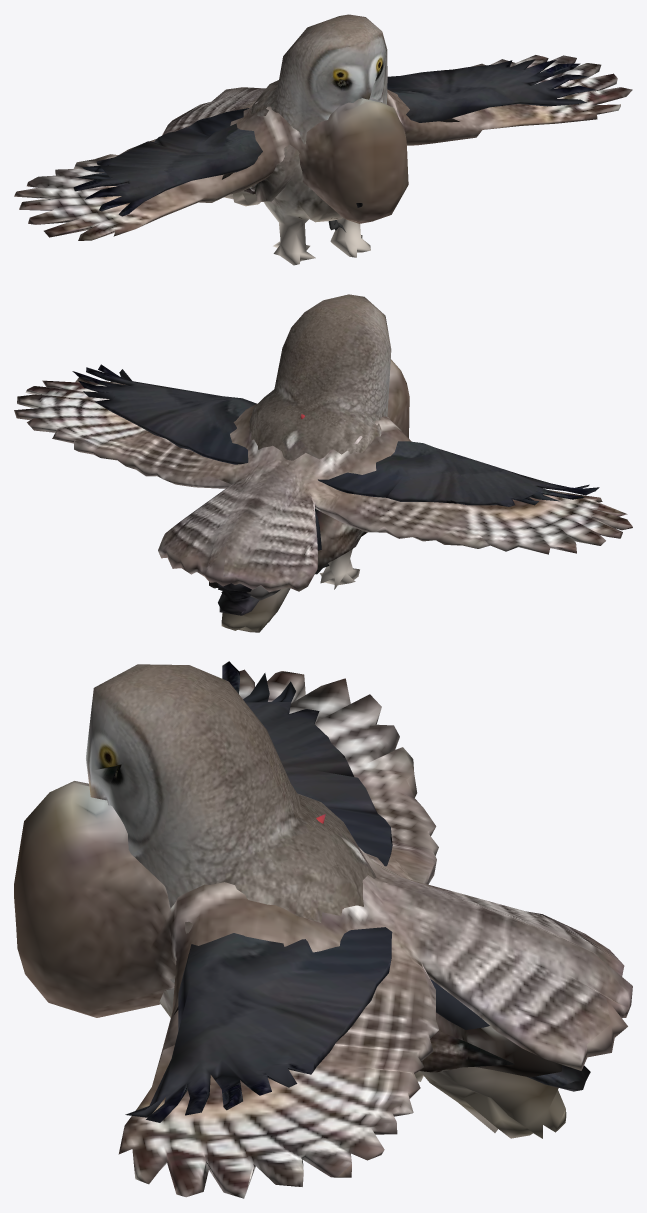
The model's file is birds.phone.glb.
3 renders of one model, top to bottom at view 1: azimuth 30°, elevation 25°; view 2: azimuth 150°, elevation 25°; view 3: azimuth 270°, elevation 25°, orthographic. The views are drawn at different scales.
Parts seen in each view (by area): view 1: owl_fly, raven_fly, owl_perch; view 2: owl_fly, owl_perch, raven_fly, raven_perch; view 3: owl_fly, owl_perch, raven_fly, raven_perch.
Boxes of the visible parts, x1=… form: owl_fly: x1=14, y1=55, x2=632, y2=240; raven_fly: x1=73, y1=59, x2=595, y2=216; owl_perch: x1=224, y1=14, x2=399, y2=265; owl_fly: x1=14, y1=359, x2=632, y2=592; owl_perch: x1=209, y1=294, x2=391, y2=632; raven_fly: x1=72, y1=364, x2=599, y2=550; raven_perch: x1=218, y1=563, x2=329, y2=615; owl_fly: x1=14, y1=669, x2=632, y2=1198; owl_perch: x1=86, y1=664, x2=566, y2=1138; raven_fly: x1=125, y1=661, x2=489, y2=1122; raven_perch: x1=527, y1=1065, x2=590, y2=1091.
Bounding box in the file's own units: 1.4 × 0.5708 × 0.698.
Materials: 1 (1 with a texture image).
